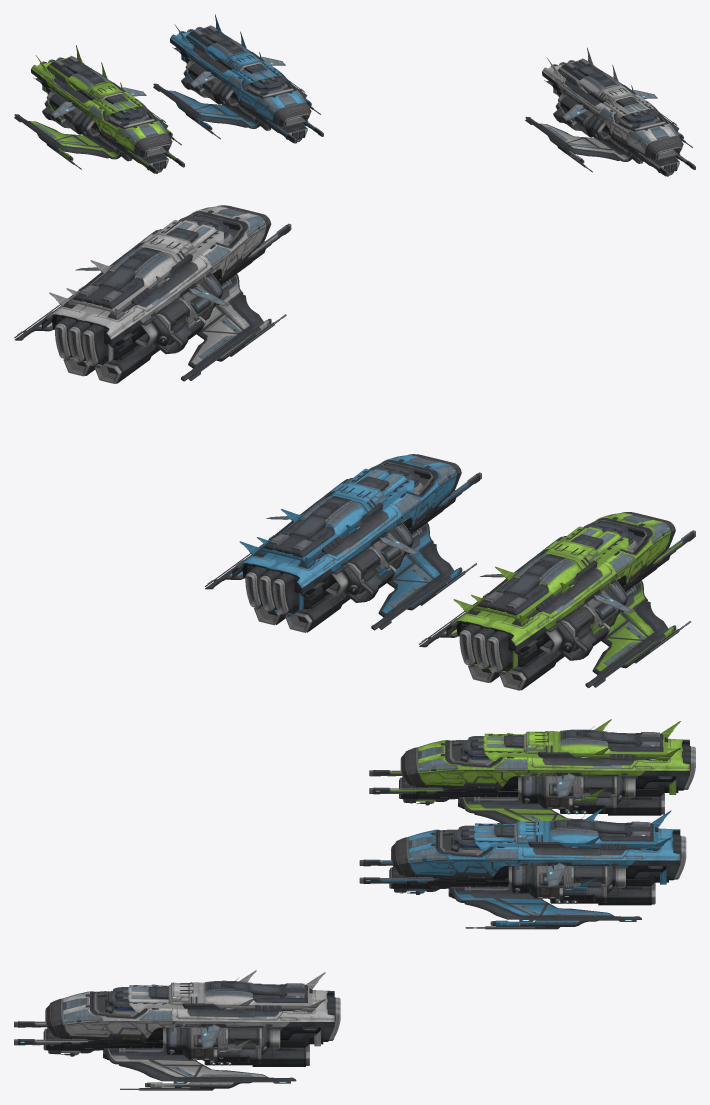
File: spaceship_fighter_1k.glb
3 views of the same model, one above another, from view 1: azimuth 30°, elevation 25°; view 2: azimuth 150°, elevation 25°; view 3: azimuth 270°, elevation 25° (orthographic). The views are drawn at different scales.
Parts seen in each view (by area): view 1: Cube.034, Cube.005, Cube.007; view 2: Cube.005, Cube.007, Cube.034; view 3: Cube.034, Cube.007, Cube.005.
Part boxes in pixels (bbox=[...]): Cube.034: bbox=[153, 14, 323, 143]; Cube.005: bbox=[14, 45, 184, 173]; Cube.007: bbox=[525, 47, 695, 176]; Cube.005: bbox=[419, 512, 695, 690]; Cube.007: bbox=[14, 205, 291, 383]; Cube.034: bbox=[205, 454, 481, 632]; Cube.034: bbox=[359, 809, 686, 929]; Cube.007: bbox=[14, 970, 340, 1090]; Cube.005: bbox=[369, 719, 695, 823].
Bounding box in the file's own units: 120 × 13.49 × 107.
Materials: 3 (3 with a texture image).
